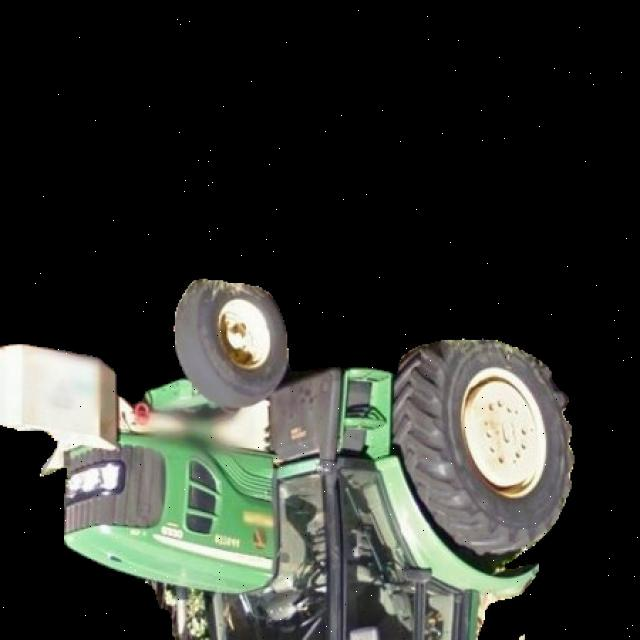Tratores - v5 YOLO V8L 2024-11-13: (0, 276, 607, 640)
